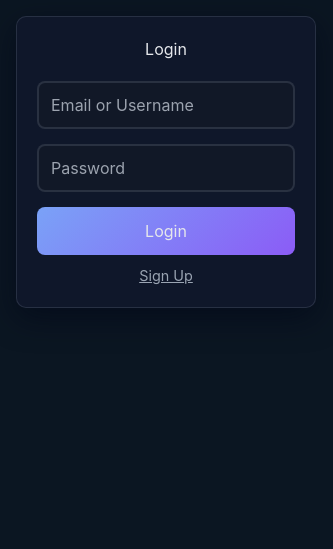
Profile Component › Login View › switches to signup view when signup button clicked
Click the button with test id "switch-to-signup" at (166, 271), box [37,255,295,287]
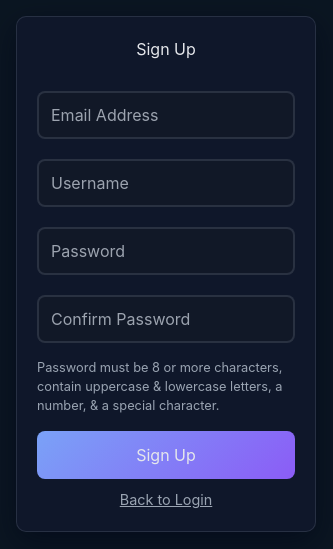
Check: the field with test id "signup-email-input" is shown, box [37,91,295,139]
Check: the field with test id "signup-username-input" is shown, box [37,159,295,207]
Check: the button with test id "signup-submit-button" is shown, box [37,431,295,479]
